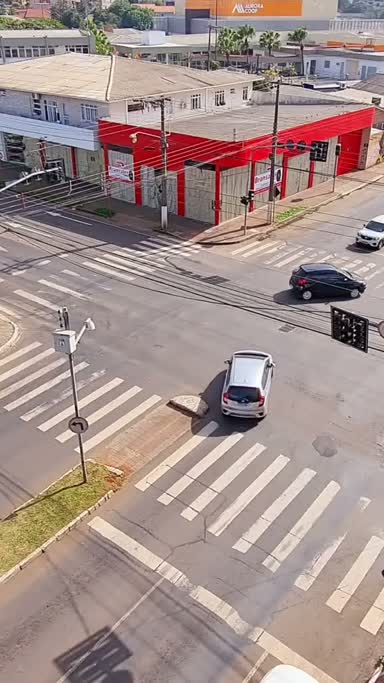car: (218, 350, 280, 429), (278, 262, 371, 309), (351, 211, 384, 253)
